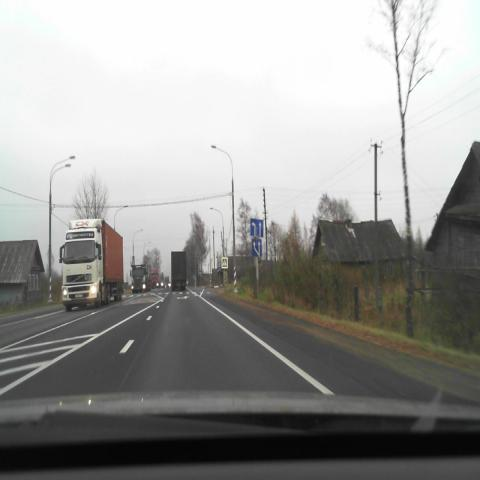5_15_2_2: (250, 218, 263, 237)
